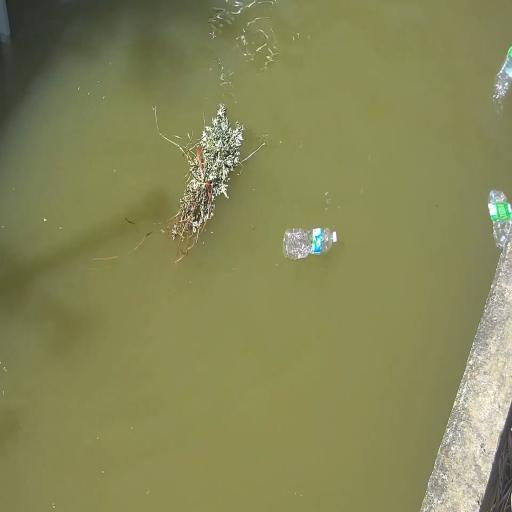plastic: (283, 229, 337, 259), (488, 190, 511, 249), (493, 47, 511, 103)
twig: (166, 103, 244, 260)
